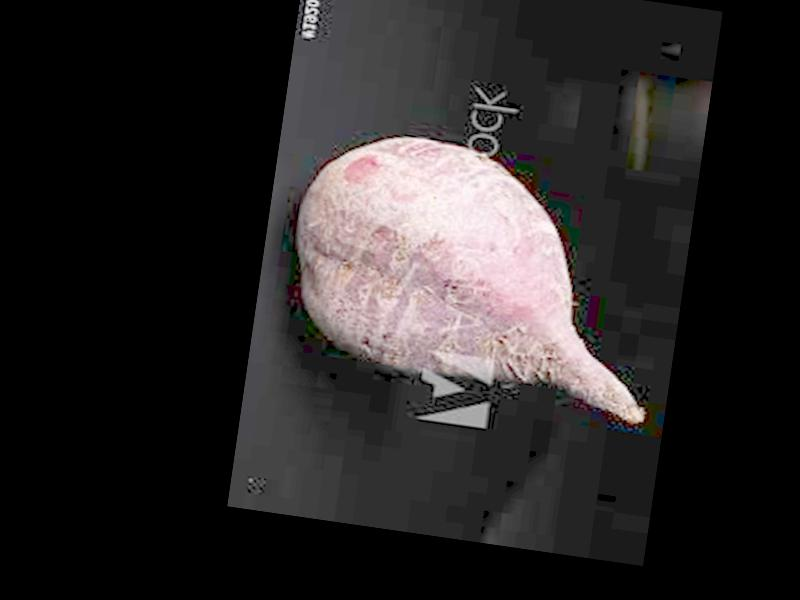Beet: (281, 121, 678, 421)
